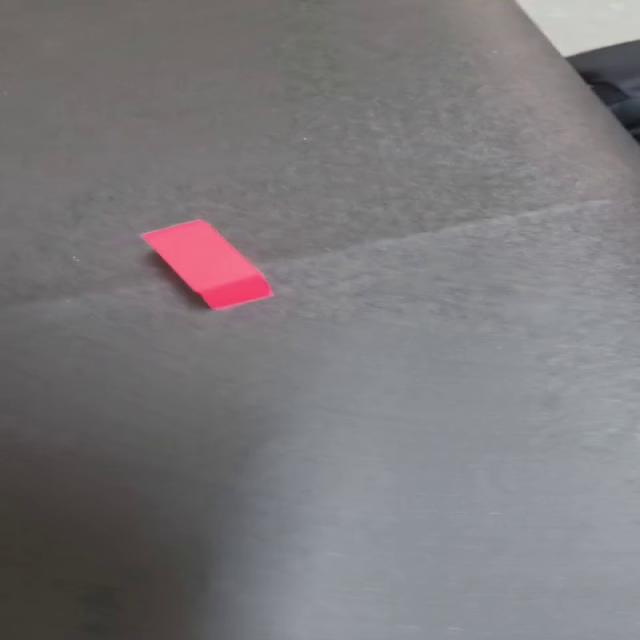red block: (140, 218, 273, 310)
